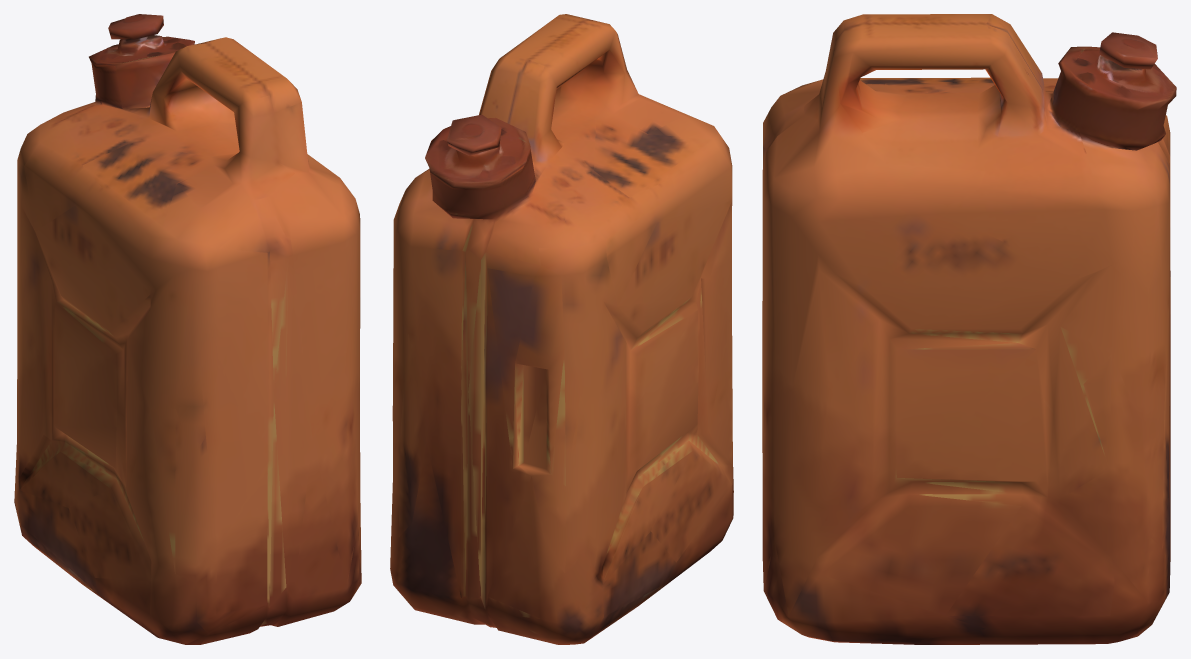
The model's file is gascan.fbx.
The picture shows the model from 3 angles, left to right: view 1: azimuth 30°, elevation 25°; view 2: azimuth 150°, elevation 25°; view 3: azimuth 270°, elevation 25°; orthographic projection. The views are drawn at different scales.
Parts seen in each view (by area): view 1: gascan; view 2: gascan; view 3: gascan.
Part boxes in pixels (<box>): gascan: <box>14,14,361,644</box>; gascan: <box>390,14,733,644</box>; gascan: <box>762,14,1176,644</box>.
Bounding box in the file's own units: 41.79 × 99.95 × 63.2.
